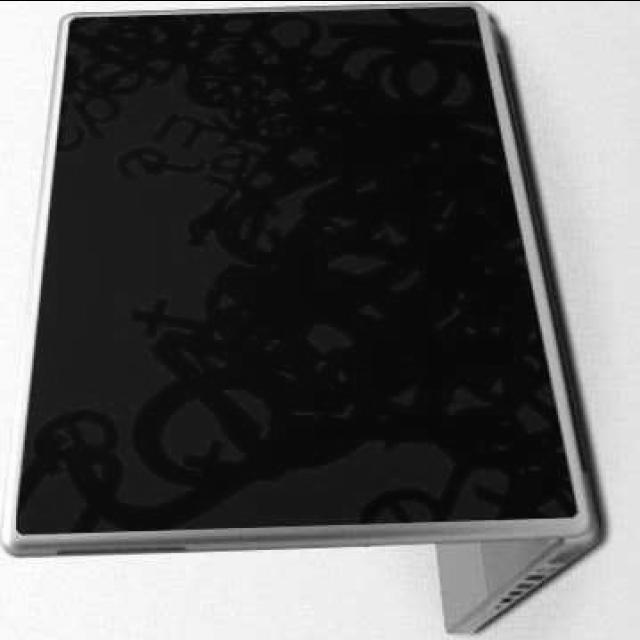laptop: (5, 0, 589, 616)
